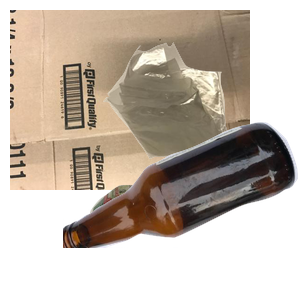cardboard: (10, 10, 250, 190)
glass: (63, 120, 300, 300)
plastic: (88, 182, 242, 300)
trash: (101, 40, 300, 192)
